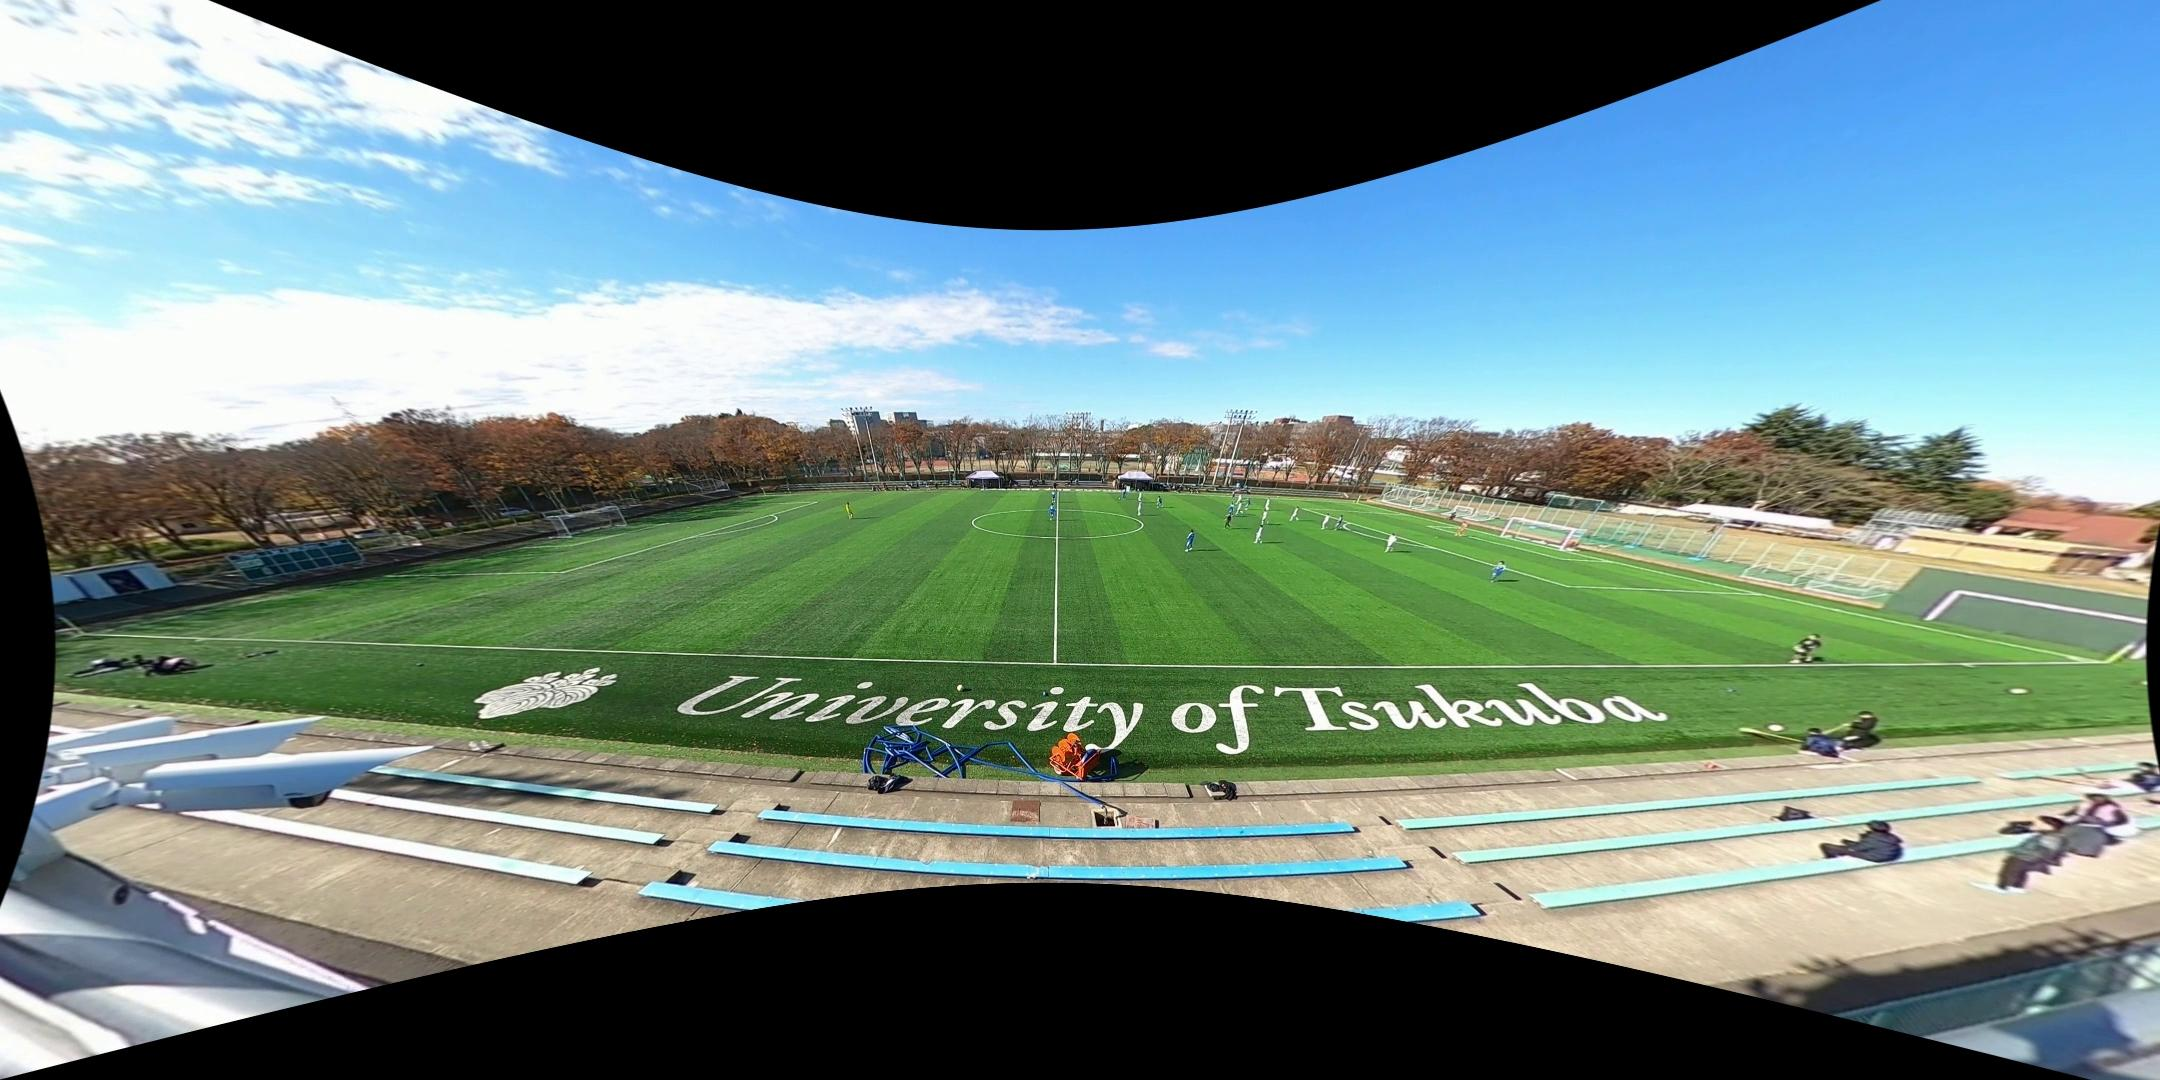person: (1790, 631, 1824, 664), (1490, 560, 1508, 582), (1384, 532, 1399, 553), (1185, 529, 1196, 552), (1455, 520, 1469, 536), (1333, 514, 1345, 530), (1254, 525, 1264, 544), (845, 501, 855, 520), (1320, 513, 1331, 530), (1223, 512, 1233, 529), (1288, 506, 1299, 521), (1048, 502, 1056, 521), (1136, 500, 1144, 517), (1227, 503, 1236, 517), (1264, 497, 1272, 512), (1261, 509, 1269, 524), (1236, 501, 1244, 515), (1050, 488, 1057, 503), (1245, 497, 1253, 510), (1156, 495, 1164, 508), (1137, 490, 1144, 504), (1236, 492, 1243, 505), (1229, 491, 1236, 504), (1122, 489, 1128, 501)
sports ball: (2008, 683, 2032, 700), (1766, 720, 1787, 733), (1416, 705, 1427, 714), (956, 683, 965, 692), (1117, 497, 1121, 501)
